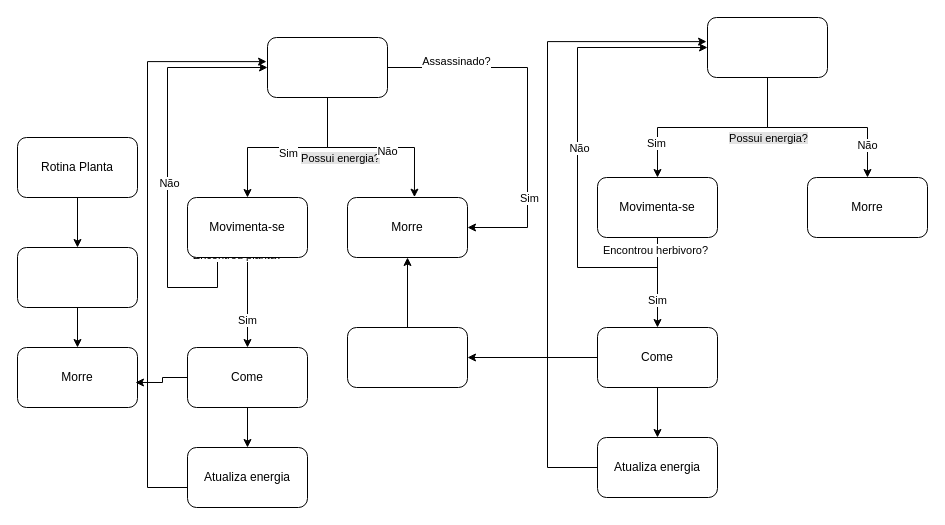
The diagram is 945 pixels wide and 525 high, and some of its shapes have lost their labels. The centre of each missing label's shape, as x and y in pixels:
"Assassina Herbívovo" goes at point 407,357.
"Inicia" goes at point 77,277.
"Rotina Carnívoro" goes at point 767,47.
"Rotina Herbivoro" goes at point 327,67.
